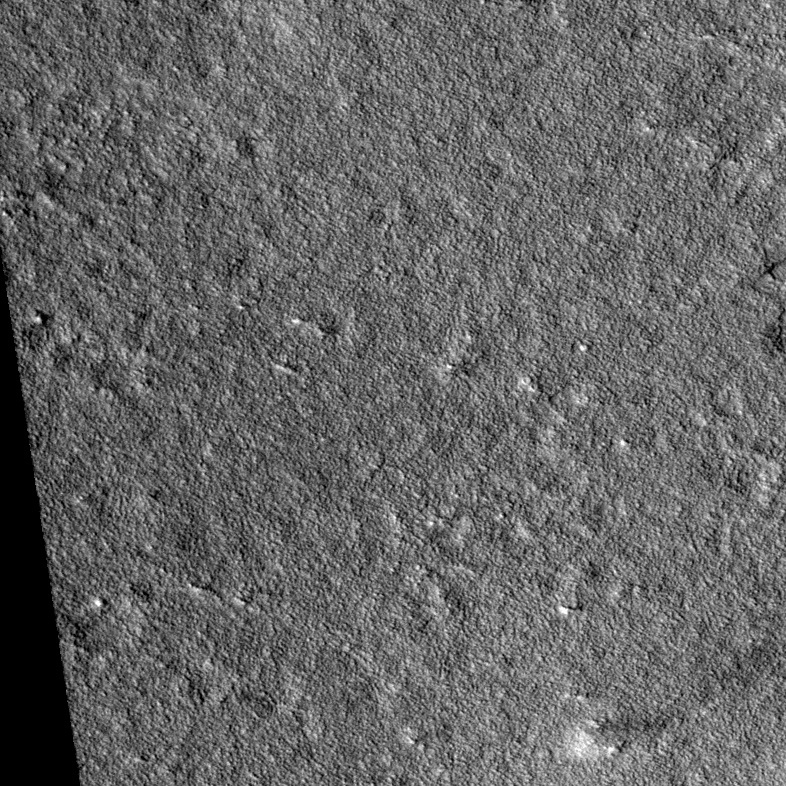dust_devil: (566, 707, 676, 764)
